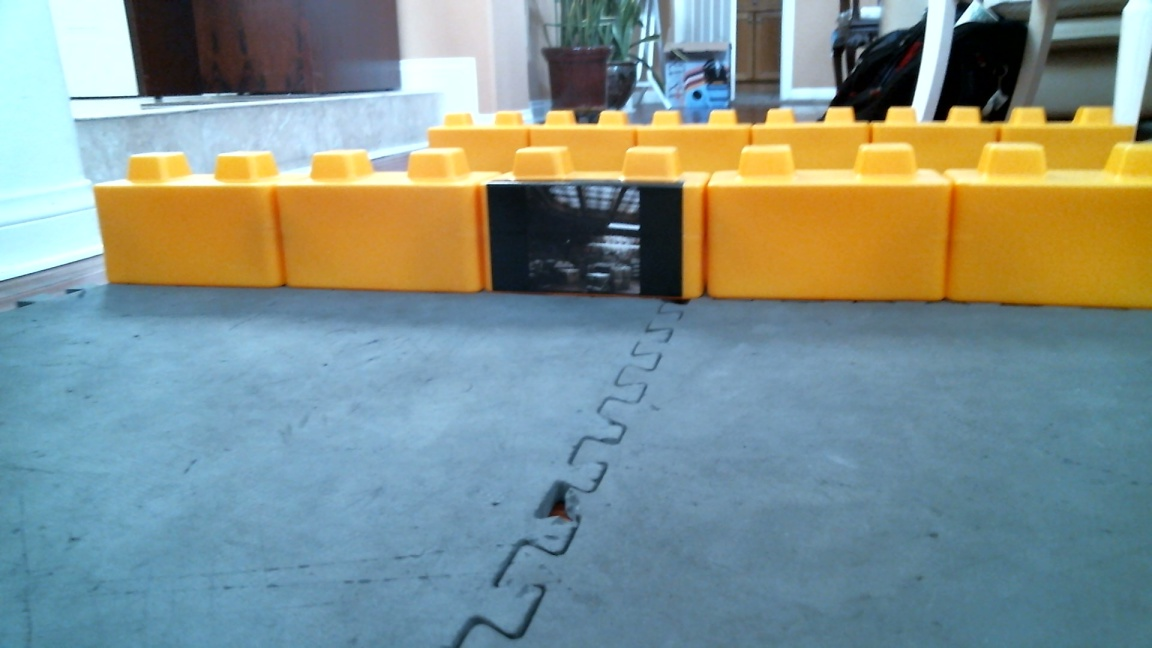skystone: (702, 148, 947, 309), (485, 145, 710, 305)
stone: (956, 152, 1152, 324), (270, 153, 482, 293), (94, 142, 281, 291)
